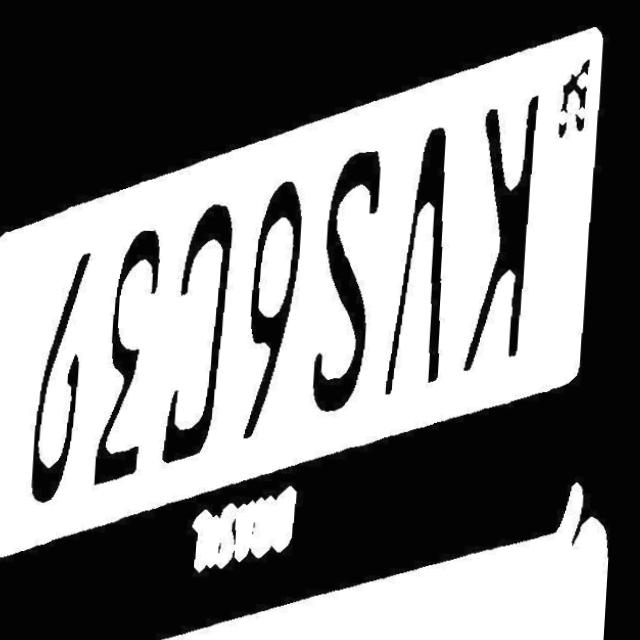3: (92, 216, 166, 497)
6: (242, 155, 313, 432)
9: (23, 235, 98, 513)
c: (160, 194, 234, 478)
k: (471, 75, 552, 379)
s: (314, 130, 402, 412)
v: (388, 110, 473, 400)
